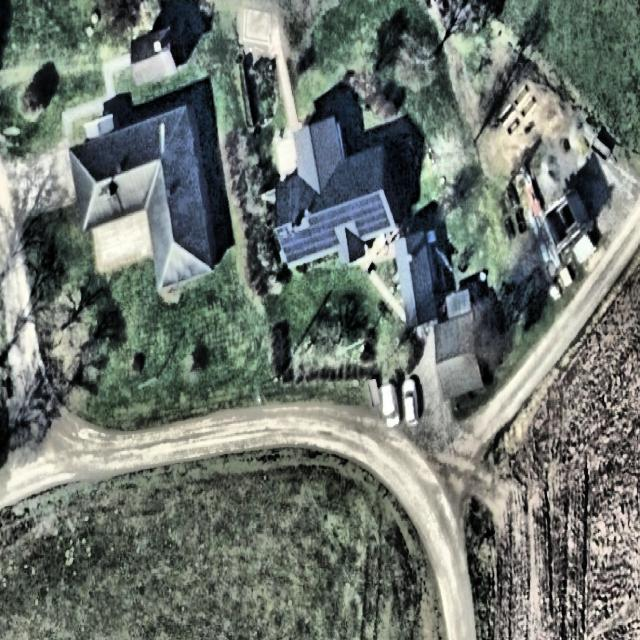roof_pv: (350, 192, 390, 241), (310, 207, 339, 261), (281, 225, 311, 267), (338, 201, 352, 228)
